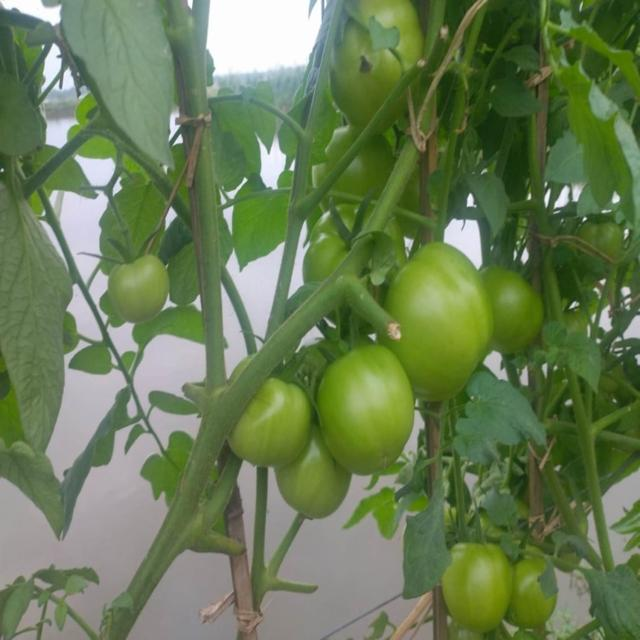tomato: (382, 240, 491, 411), (317, 343, 417, 473), (328, 1, 421, 130), (228, 376, 310, 476), (301, 202, 405, 280), (317, 121, 401, 205), (438, 539, 510, 632), (479, 257, 544, 359), (108, 249, 172, 343), (277, 443, 349, 525), (506, 535, 563, 636)
